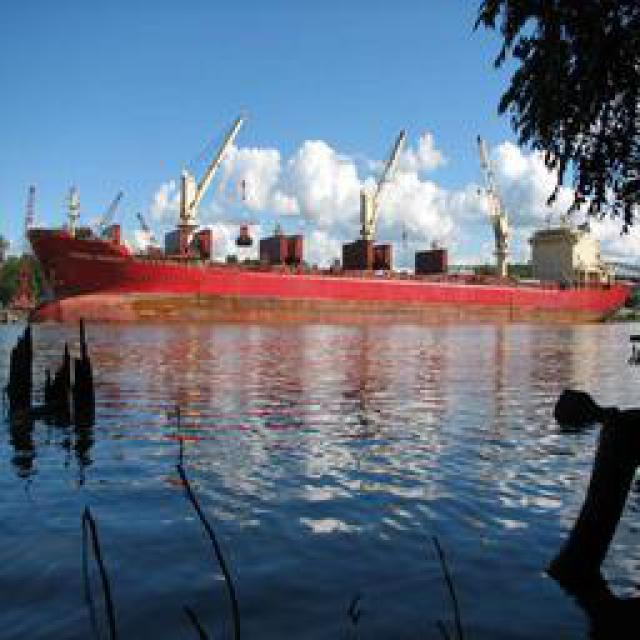Ship: (35, 218, 625, 316)
